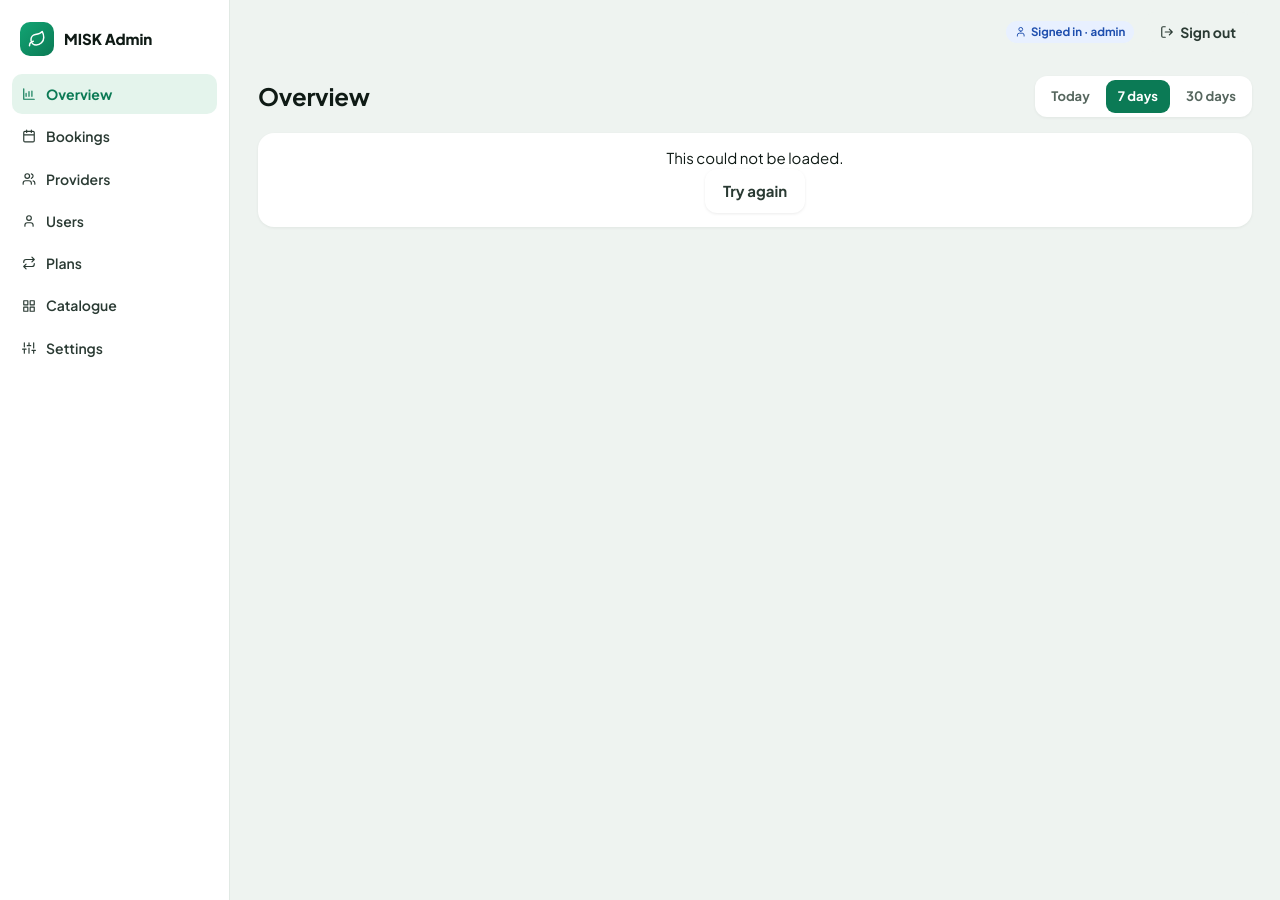
Test case: the Users page (D65) › is in the side menu and lists every user with name, email, phone, type, status, joined and last active
Click the link "Users" at (53, 221), box [22, 212, 84, 230]
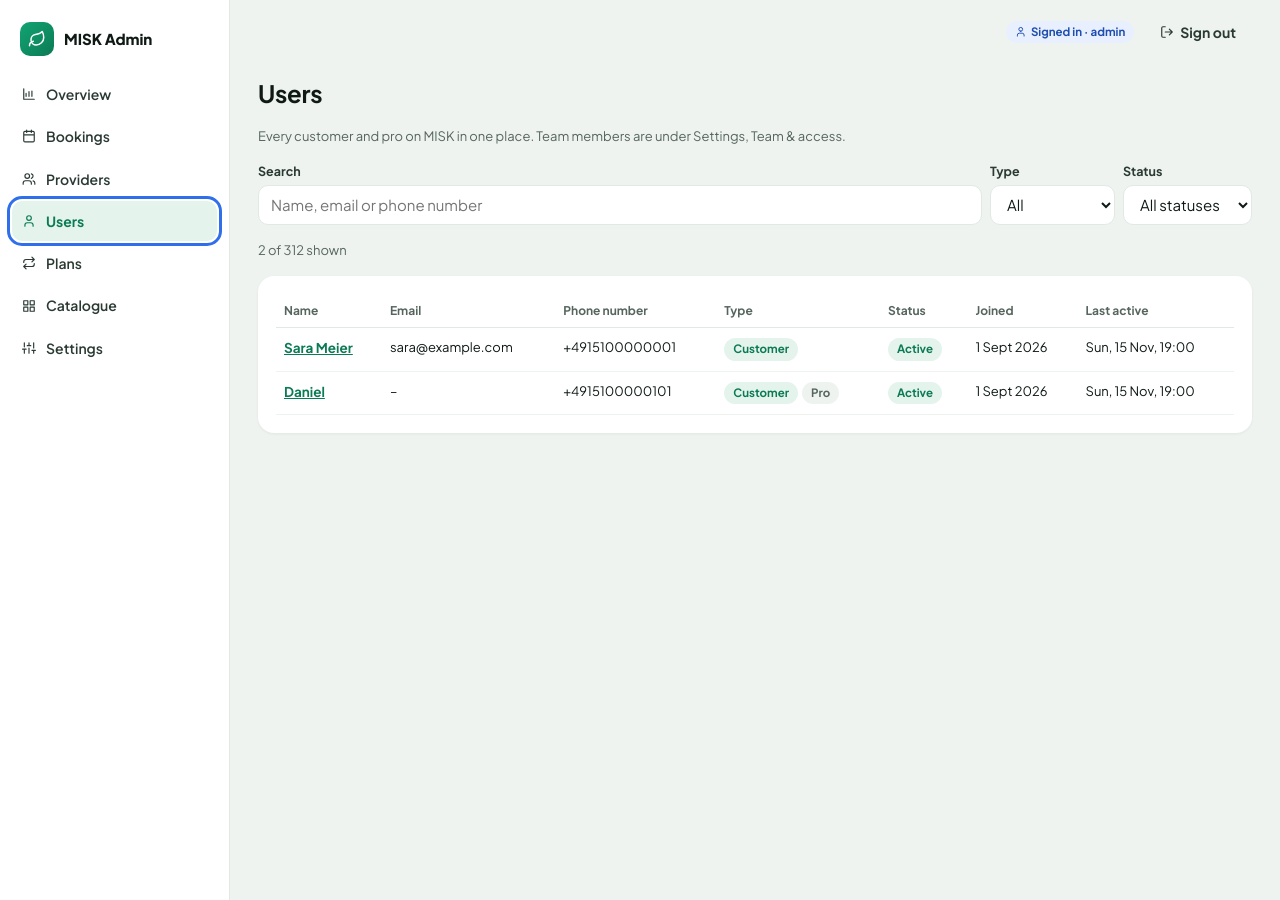
Expected: the row that starts with "Sara Meier" is shown, [284, 338, 353, 358]
Expected: the row that starts with "Sara Meier" shows "sara@example.com", [390, 339, 513, 355]
Expected: the row that starts with "Sara Meier" shows "+4915100000001", [563, 339, 676, 355]
